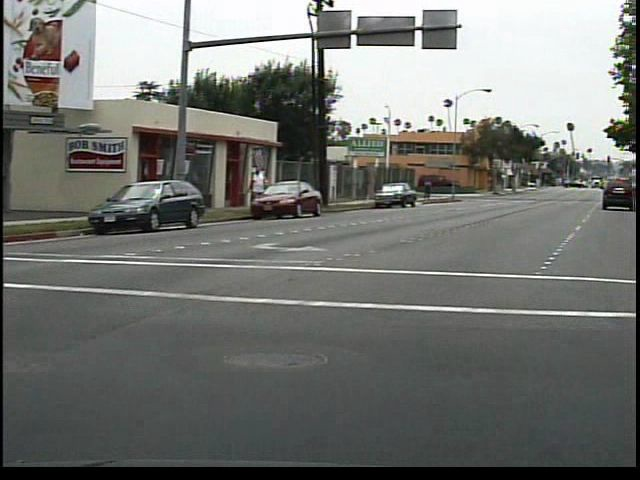person: (252, 160, 277, 215), (427, 178, 441, 203)
